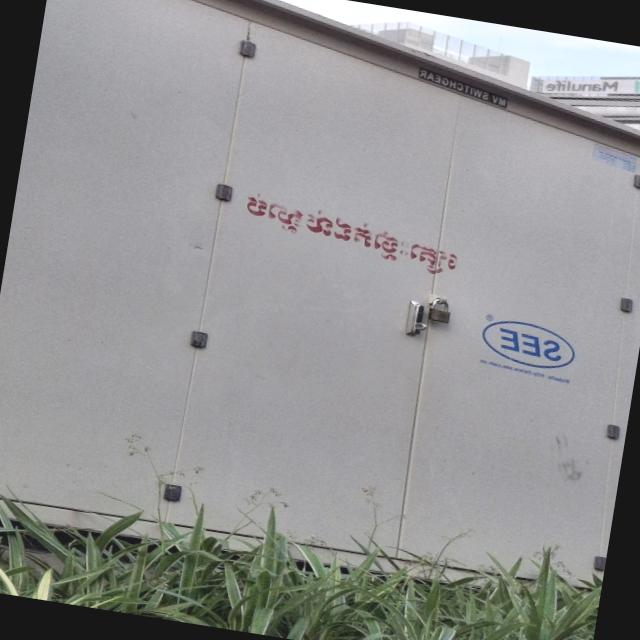Yolov11_80vkh: (223, 178, 485, 288)
